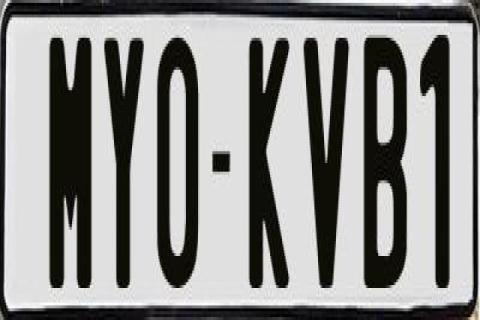0: (154, 35, 196, 285), (416, 29, 454, 294)
B: (362, 32, 408, 300)
K: (250, 38, 289, 297)
M: (50, 29, 96, 297)
V: (301, 32, 348, 291)
Y: (101, 35, 141, 288)
